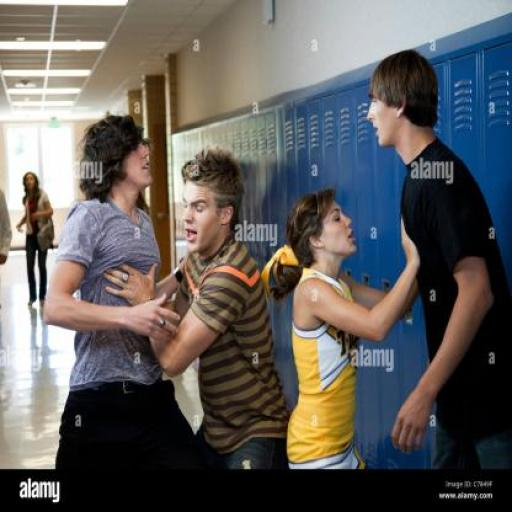Fighting: (41, 47, 512, 507)
